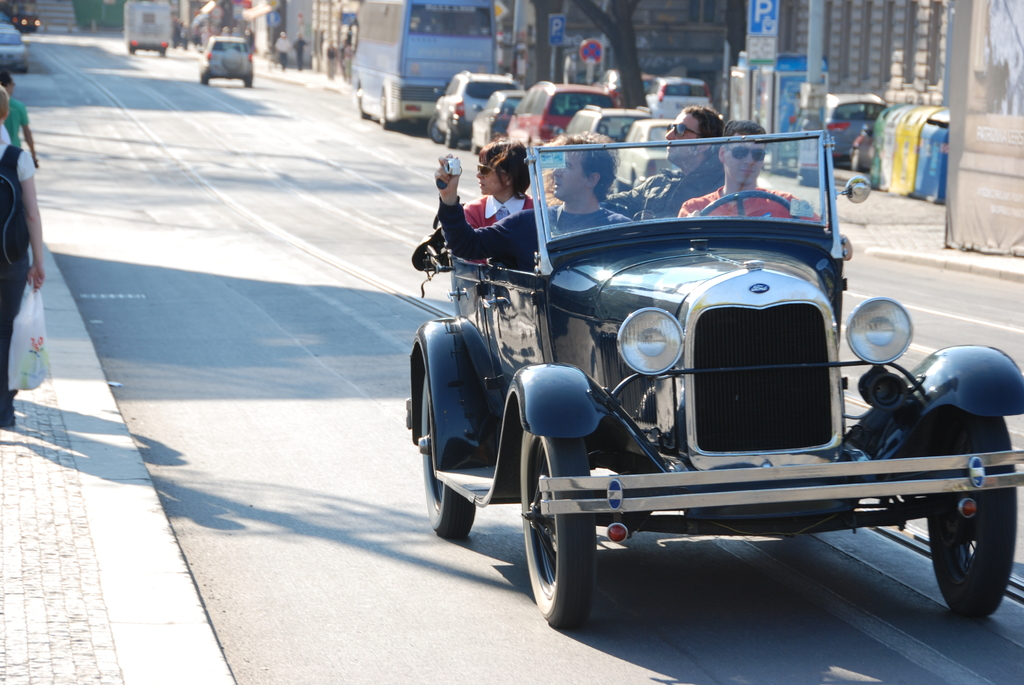Car: (397, 134, 1023, 635), (433, 62, 718, 199), (197, 35, 258, 88), (643, 74, 711, 120)
